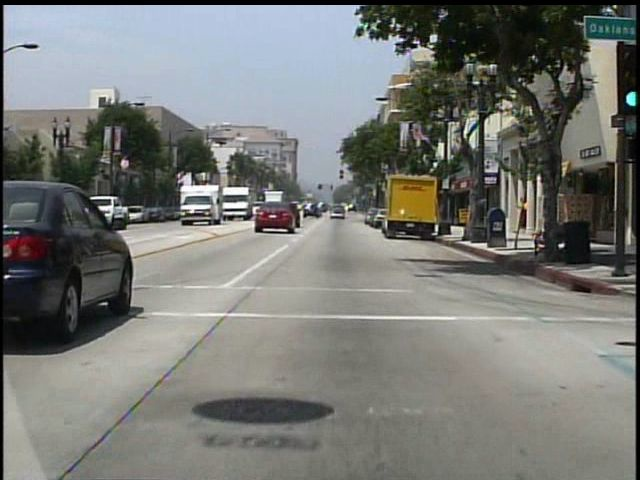person: (512, 196, 528, 236)
